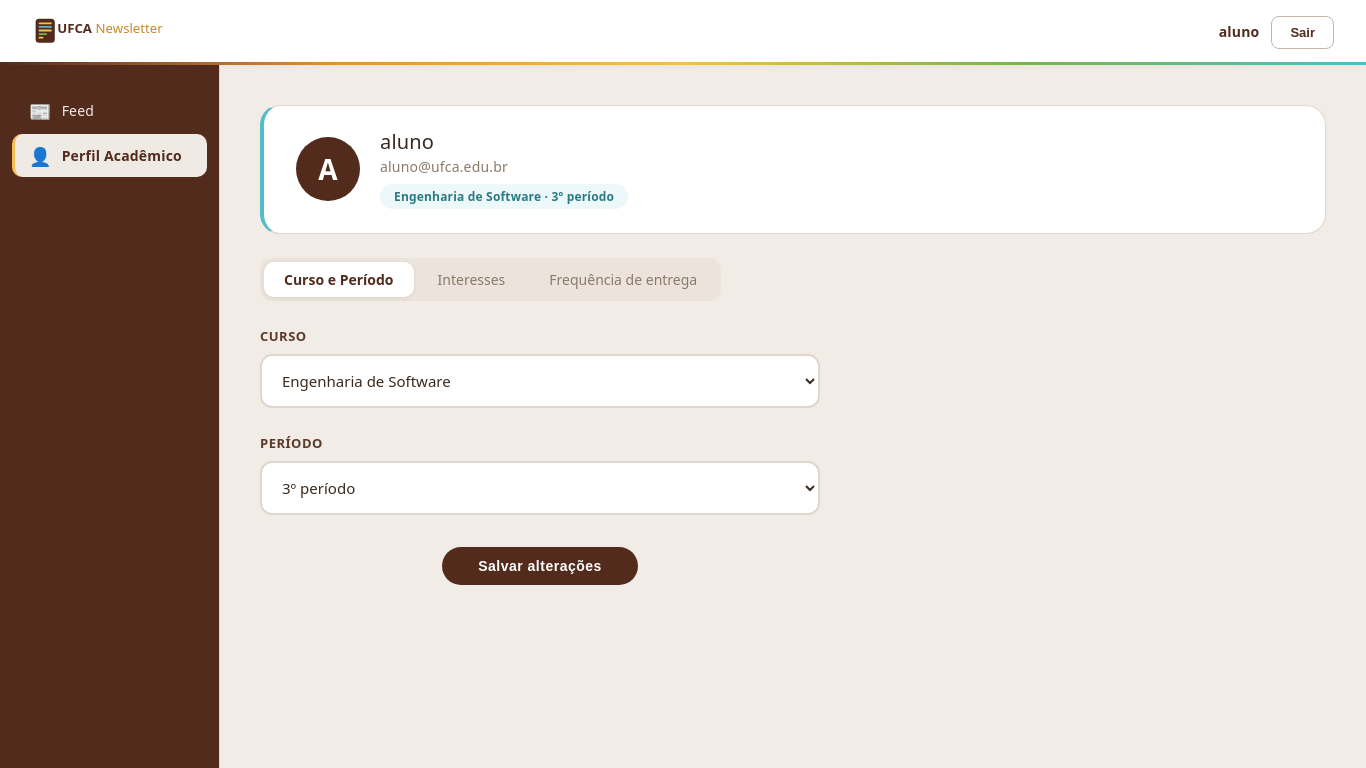
Test case: Perfil — notificações push › navegador sem suporte: não renderiza o toggle
Click the button "Frequência de entrega".
click(623, 279)  # box [529,262,717,297]
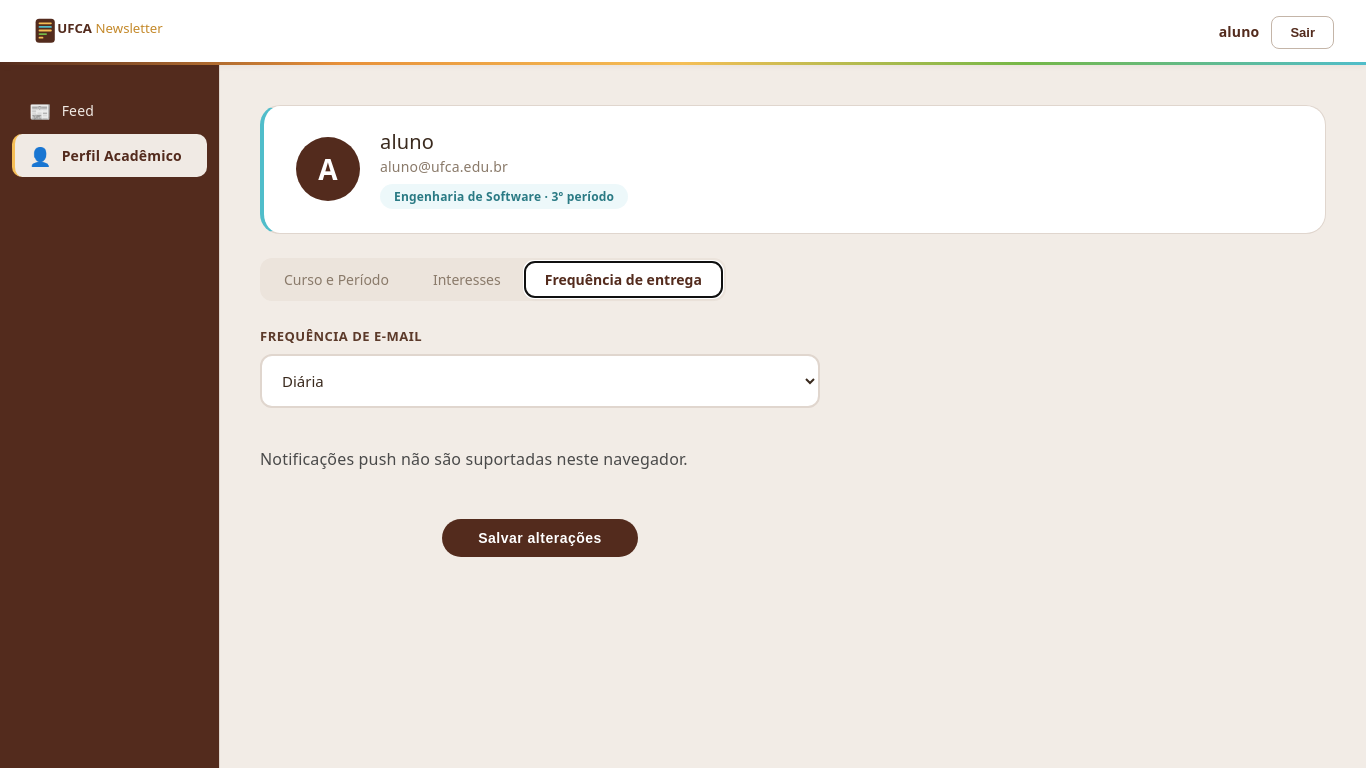
Result: the text "Notificações push não são suportadas neste navegador." is shown at [260,448,688,470]
